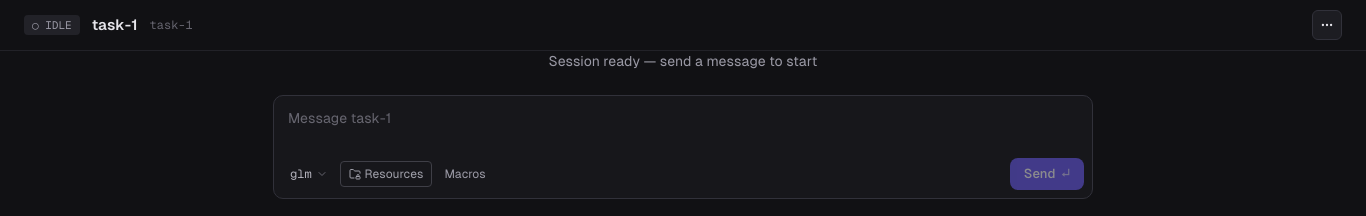
Test case: NativeAgentPanel › POSTs to the model endpoint when selecting a different model from the dropdown
The width and height of the screenshot is (1366, 216).
Click the button titled "Change model" at (309, 174), box [282,160,336,188]
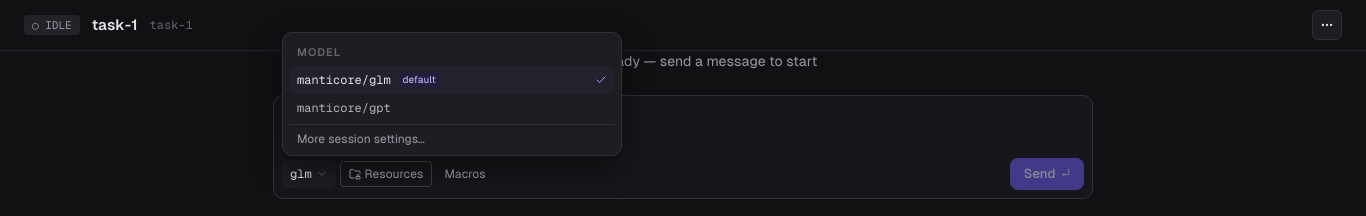
Click the menu item "manticore/gpt" at (344, 108), box [289,94,615,122]
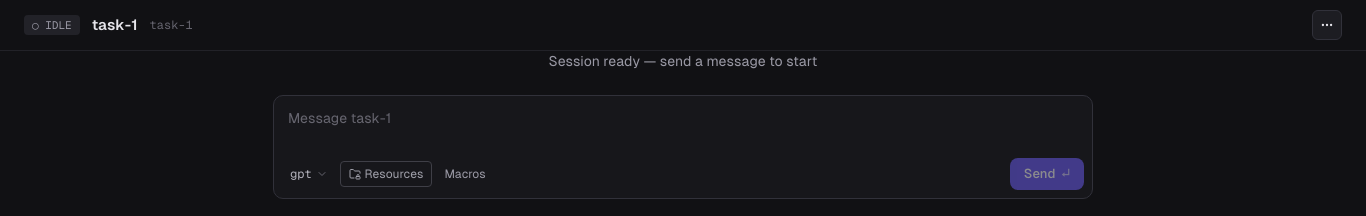
Now the button titled "Change model" reads "gpt", box [282,160,336,188]
